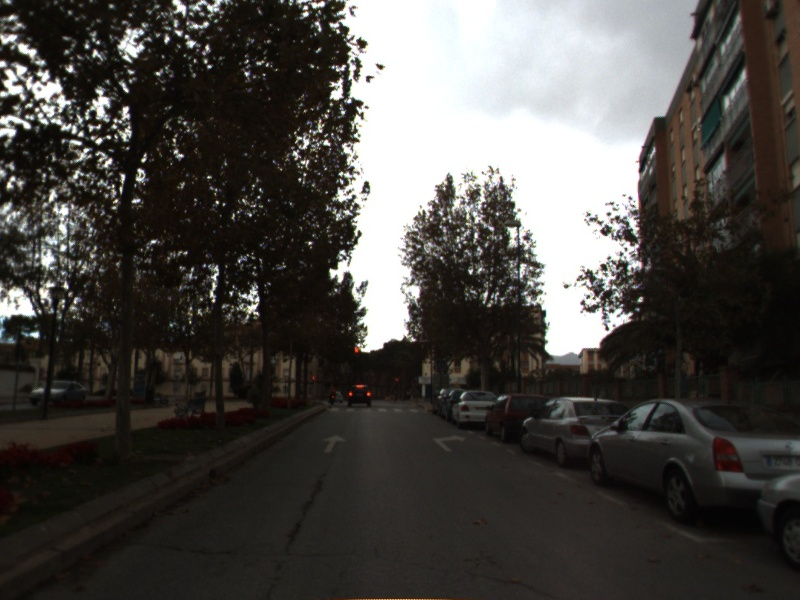RIGHT: (430, 433, 468, 453)
STRAIGHT: (320, 433, 350, 455)
